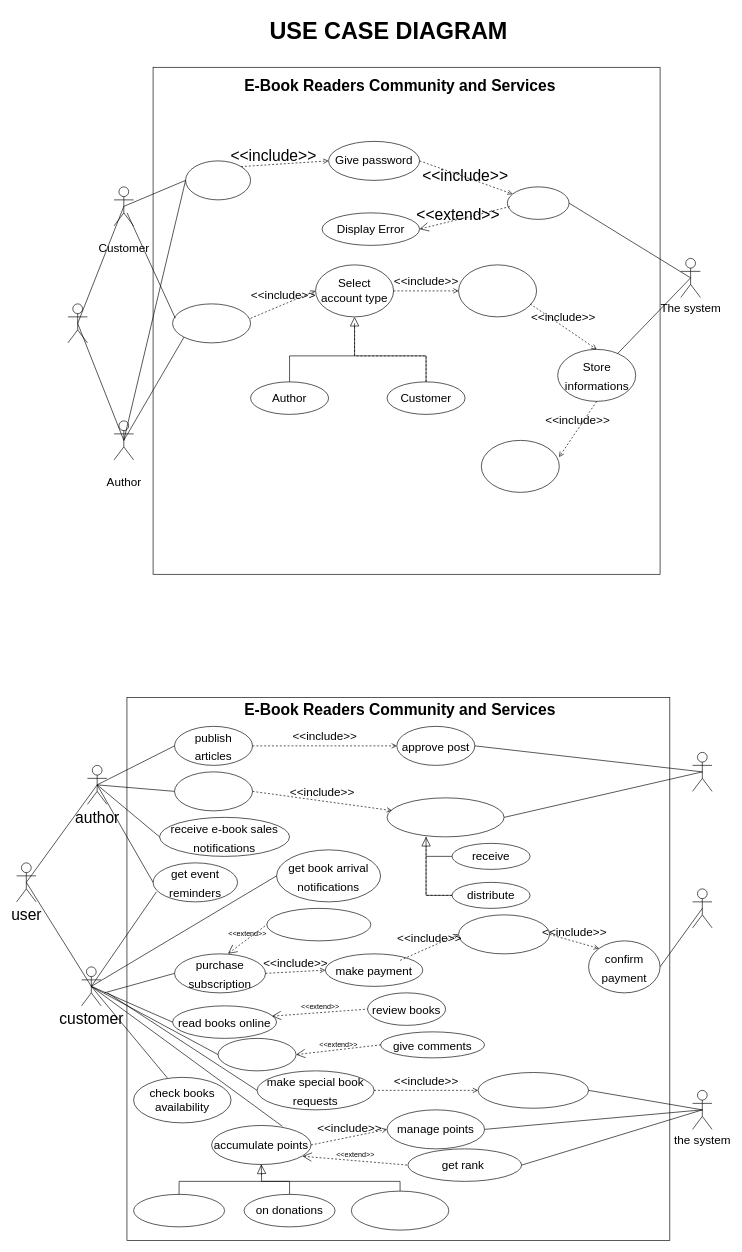
This 742x1252 diagram has some shape labels left out. The shapes that lost their labels are listed below. From the top down, each one's centre as x and y in pixels, then its label:
pixel 218 180: Log In
pixel 538 202: Verify
pixel 497 290: provide user informstions
pixel 77 323: Actor
pixel 211 323: Register
pixel 520 466: Confirmation Mail
pixel 213 791: donate books
pixel 702 771: admin
pixel 445 817: manage donation facilities
pixel 318 924: cancel subscription
pixel 702 908: third party payment gateway
pixel 504 934: verify gateway
pixel 256 1054: view posts
pixel 533 1090: response on request
pixel 179 1210: on purchase
pixel 400 1210: on buying subscription
